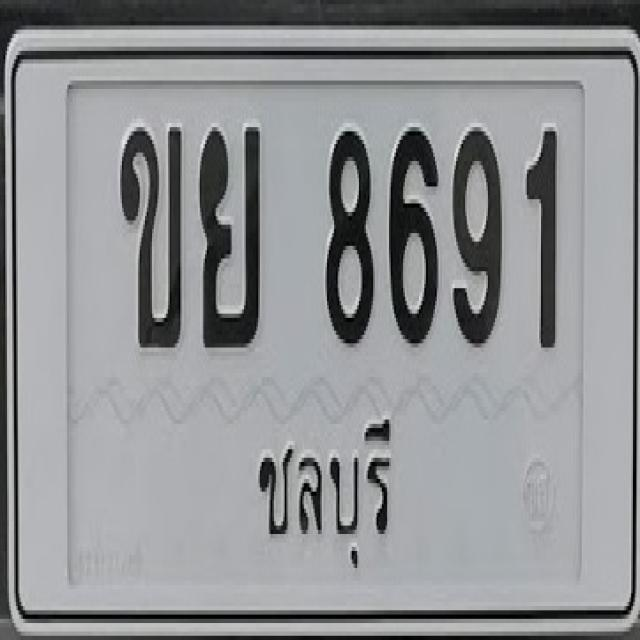license_plate: (5, 29, 640, 640)
